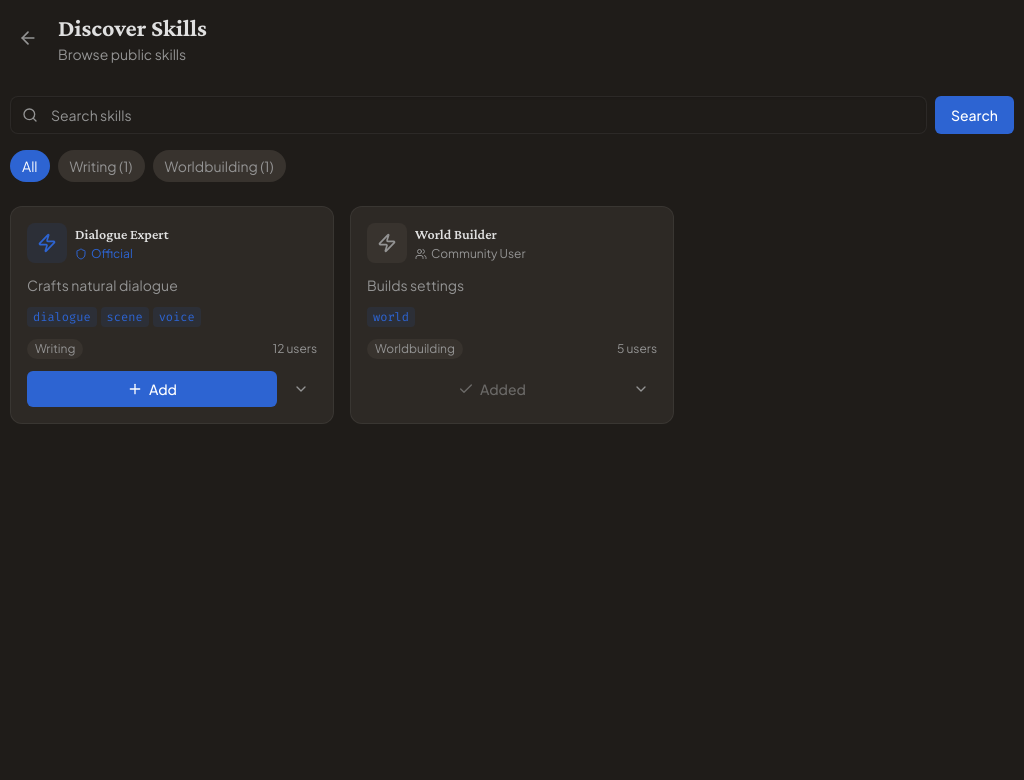
it: SkillDiscoveryPage › loads categories and skills, expands instructions, and adds a skill
Expected: the heading "Dialogue Expert" is shown, [75,224,169,244]
Expected: the button "Writing (1)" is shown, [58,150,144,182]
Click the button titled "Expand" below "12" at (301, 389), box [285,373,317,405]
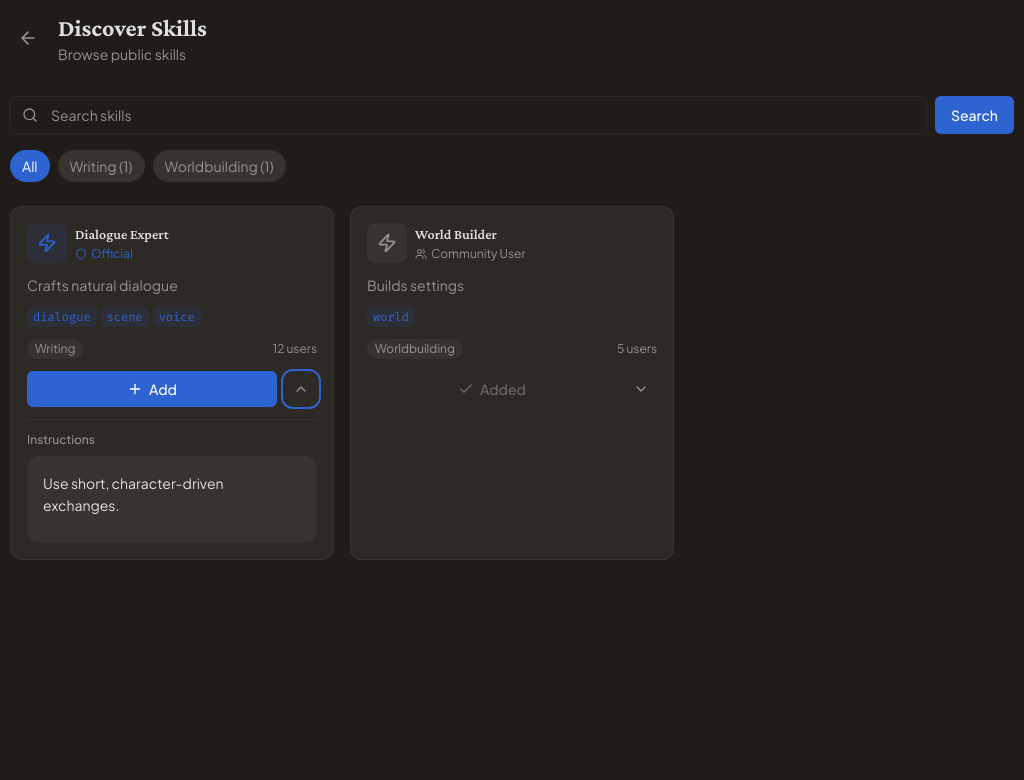
Now the text "Use short, character-driven exchanges." is shown, box [43,474,224,514]
Click the button "Add" at (152, 389), box [27,371,277,407]
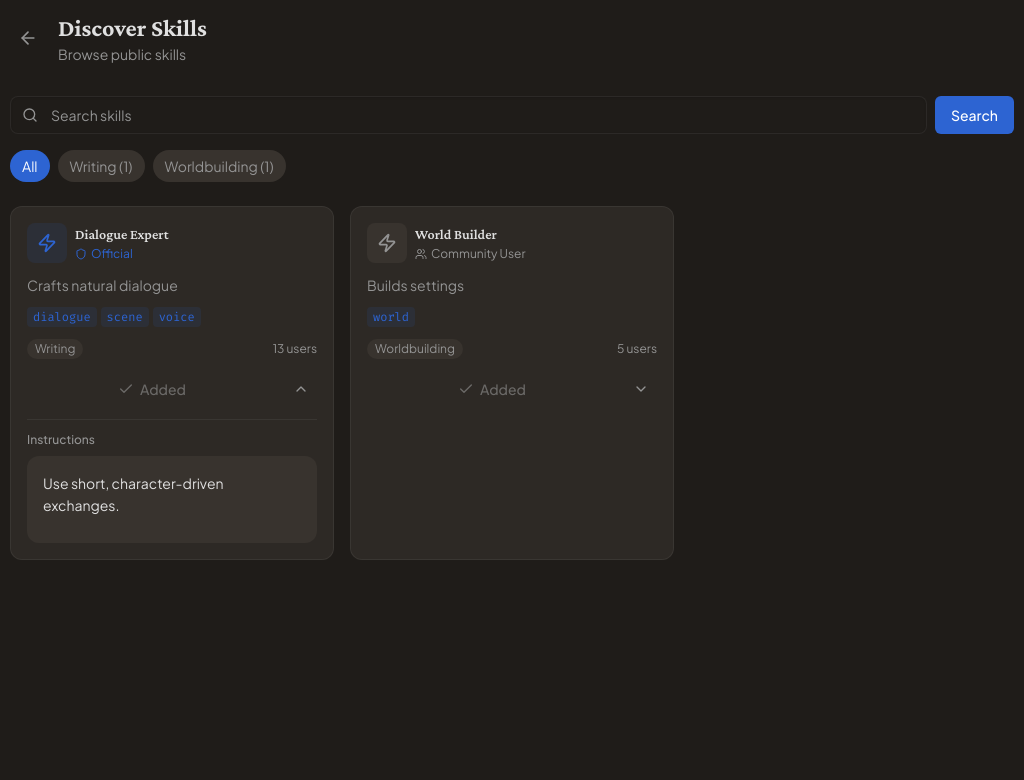
Now the button "Added" below "13" is shown, box [27,371,277,407]
